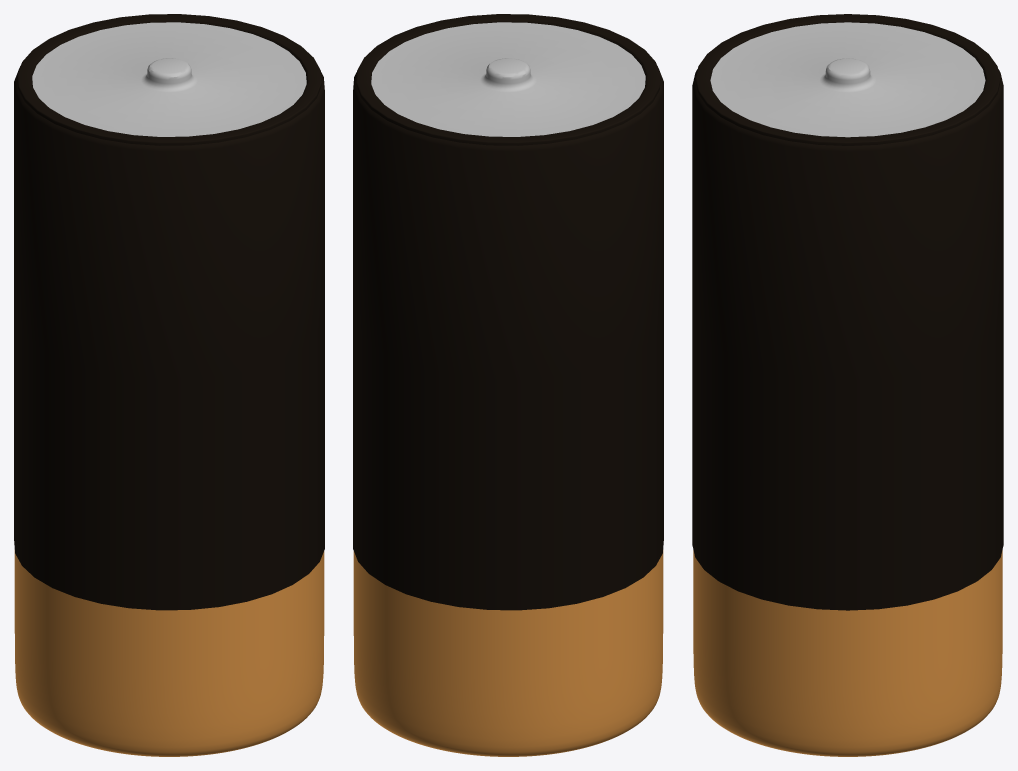
File: Pila.fbx
3 views of the same model, side by side, from view 1: azimuth 30°, elevation 25°; view 2: azimuth 150°, elevation 25°; view 3: azimuth 270°, elevation 25° (orthographic).
Visible parts, largest first — view 1: Circle.002, Circle, Circle.003; view 2: Circle.002, Circle, Circle.003; view 3: Circle.002, Circle, Circle.003.
Part boxes in pixels (x1,y1,x2,y2): Circle.002: (14, 14, 324, 610); Circle: (14, 550, 324, 756); Circle.003: (32, 22, 306, 136); Circle.002: (353, 14, 663, 610); Circle: (353, 550, 663, 756); Circle.003: (371, 22, 645, 136); Circle.002: (692, 14, 1003, 610); Circle: (693, 550, 1002, 756); Circle.003: (710, 22, 985, 137).
Bounding box in the file's own units: 200 × 447 × 200.
